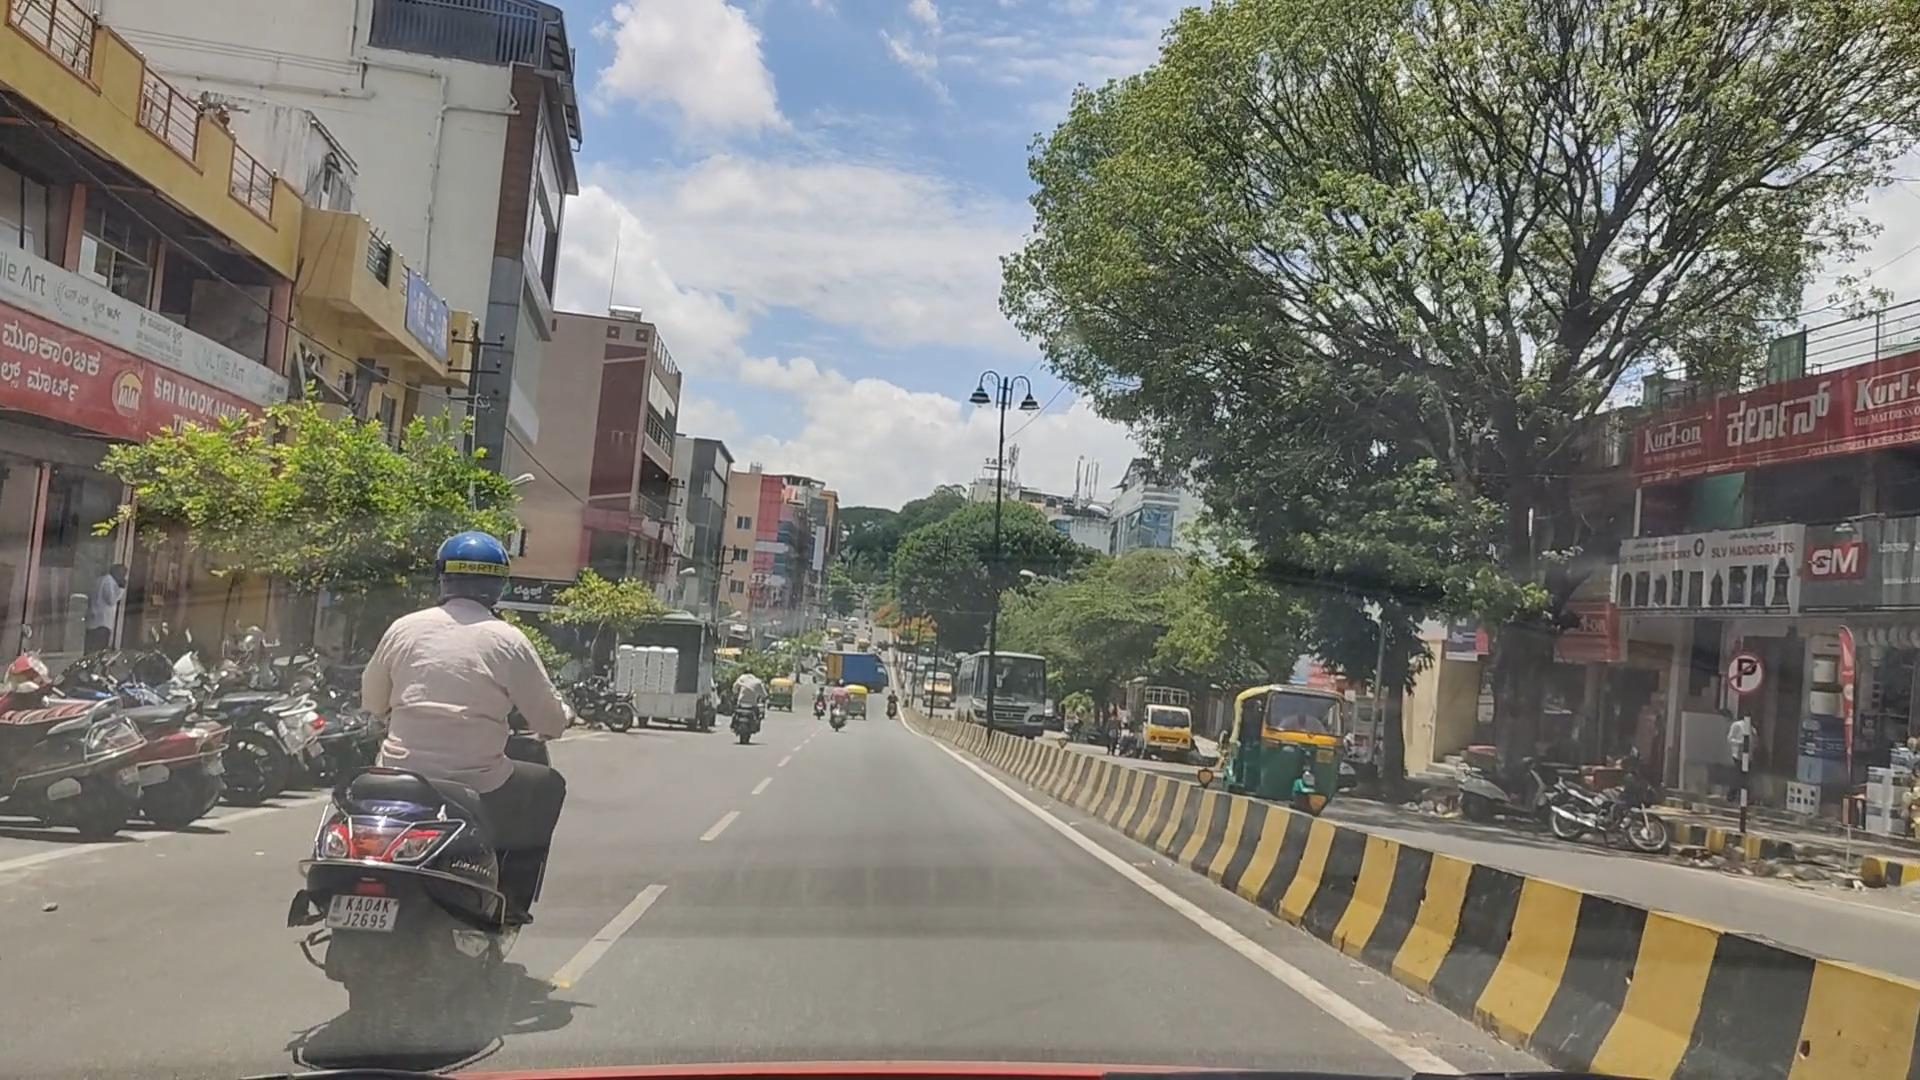LMV: (278, 488, 570, 1080)
